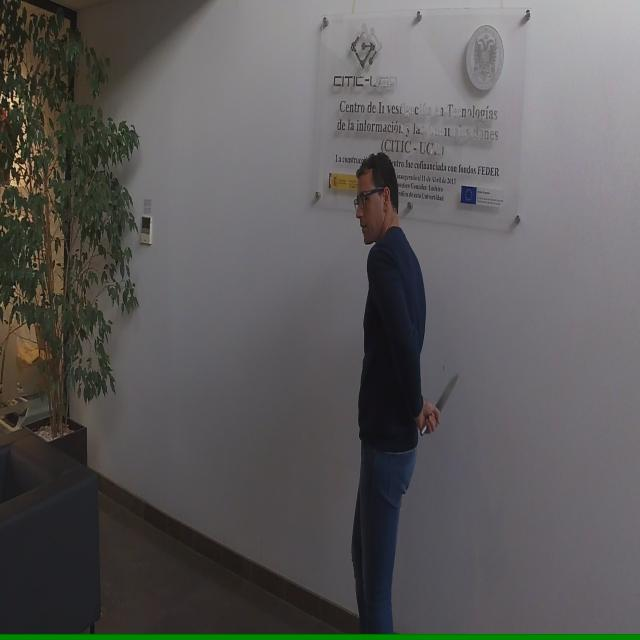knife: (418, 368, 463, 440)
